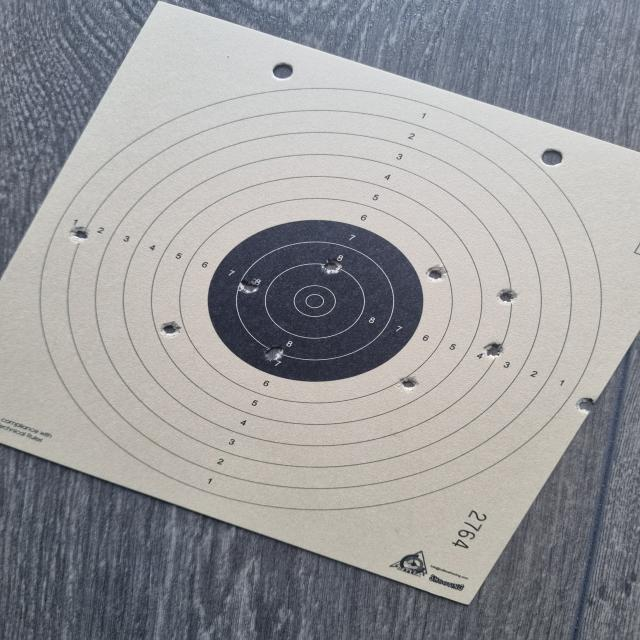0: (576, 397, 594, 413)
2: (69, 227, 89, 240)
4: (483, 342, 504, 358), (496, 289, 517, 302)
5: (160, 322, 180, 337)
6: (426, 266, 448, 280), (398, 376, 418, 391)
8: (263, 344, 284, 361), (238, 280, 258, 294)
9: (321, 259, 343, 274)
Target: (37, 86, 605, 512)
black_contour: (208, 221, 424, 382)
